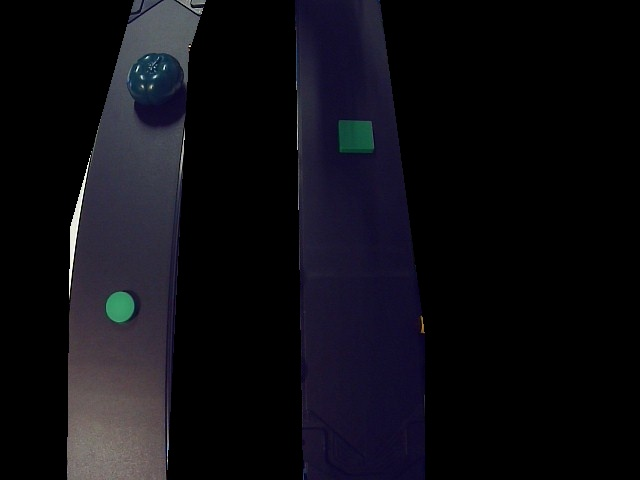Green_Circle: (100, 291, 140, 326)
Green_Square: (339, 118, 376, 155)
Unknown: (126, 51, 189, 107)
